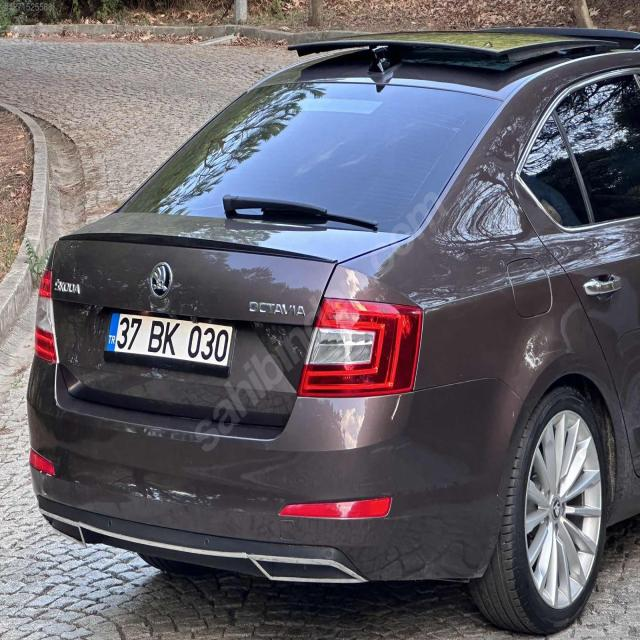skoda: (150, 260, 173, 300)
